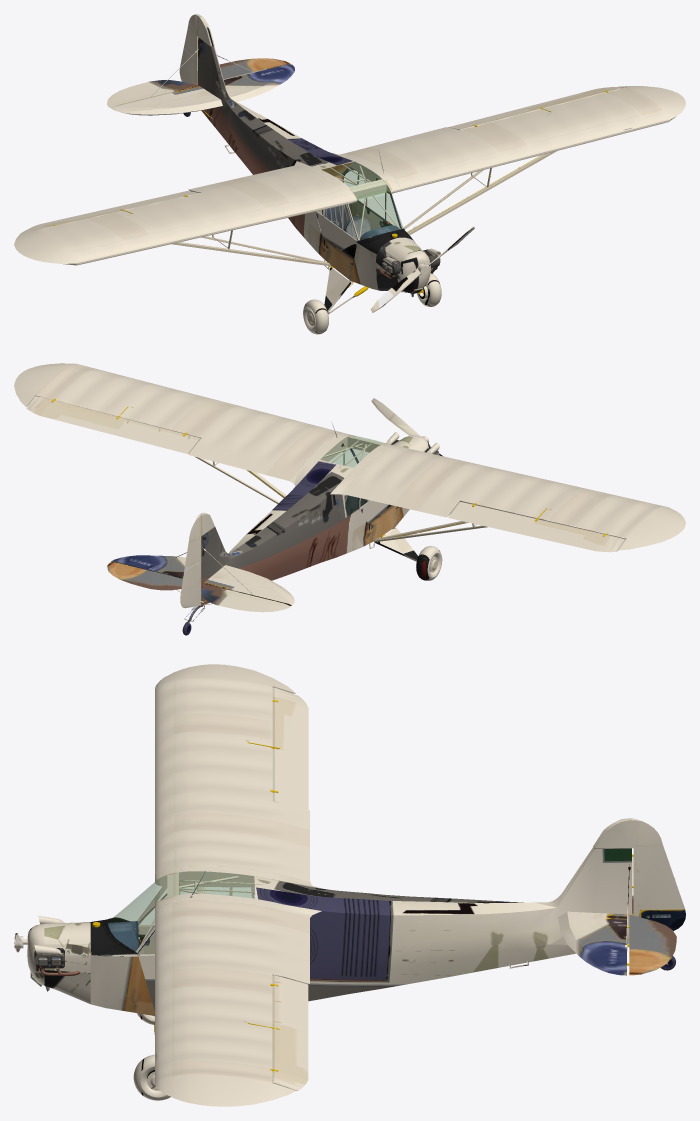
File: cream-metal.gltf
The picture shows the model from 3 angles, top to bottom: view 1: azimuth 30°, elevation 25°; view 2: azimuth 150°, elevation 25°; view 3: azimuth 270°, elevation 25°; orthographic projection. The views are drawn at different scales.
Visible parts, largest first — view 1: Exterior; view 2: Exterior; view 3: Exterior.
Part boxes in pixels (x1,y1,x2,y2): Exterior: [14, 14, 685, 334]; Exterior: [14, 363, 685, 635]; Exterior: [14, 664, 685, 1106].
Size of the model in its own units: 10.65 by 2.73 by 6.86.
Materials: 73 (61 with a texture image).
